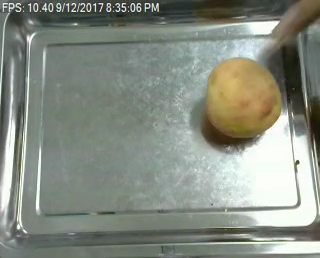Peach: (204, 57, 283, 138)
